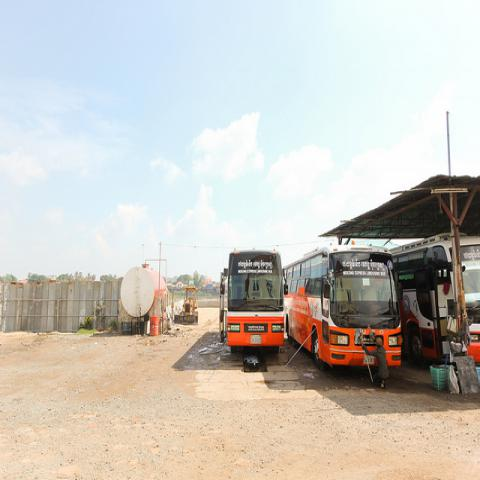bus: (285, 245, 401, 370), (389, 234, 455, 360), (224, 252, 285, 346)
